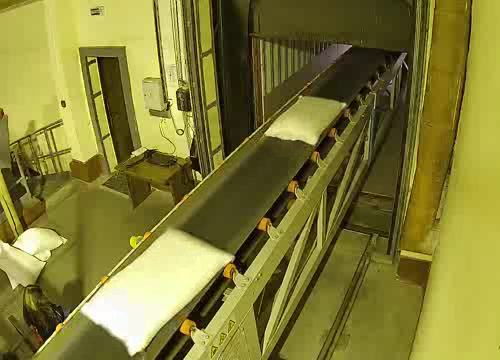bag: (73, 220, 244, 359), (261, 89, 352, 150)
